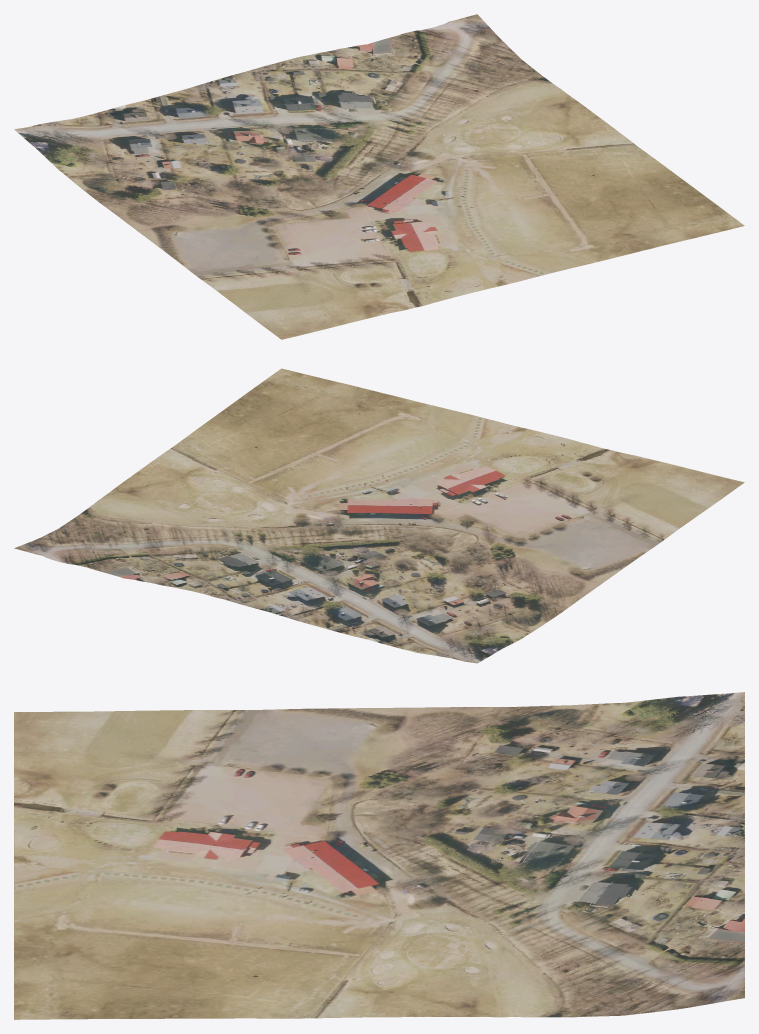
Rendered from CM_Terrain_24491482_6819180.fbx.
3 renders of one model, top to bottom at view 1: azimuth 30°, elevation 25°; view 2: azimuth 150°, elevation 25°; view 3: azimuth 270°, elevation 25°, orthographic. The views are drawn at different scales.
Parts seen in each view (by area): view 1: CM_Terrain_24491482_6819180_LOD0; view 2: CM_Terrain_24491482_6819180_LOD0; view 3: CM_Terrain_24491482_6819180_LOD0.
Boxes of the visible parts, x1=… form: CM_Terrain_24491482_6819180_LOD0: x1=14, y1=14, x2=744, y2=339; CM_Terrain_24491482_6819180_LOD0: x1=14, y1=368, x2=744, y2=663; CM_Terrain_24491482_6819180_LOD0: x1=14, y1=692, x2=744, y2=1019.
Size of what is drawn, in the model's own units: 205 by 7.7 by 205.
